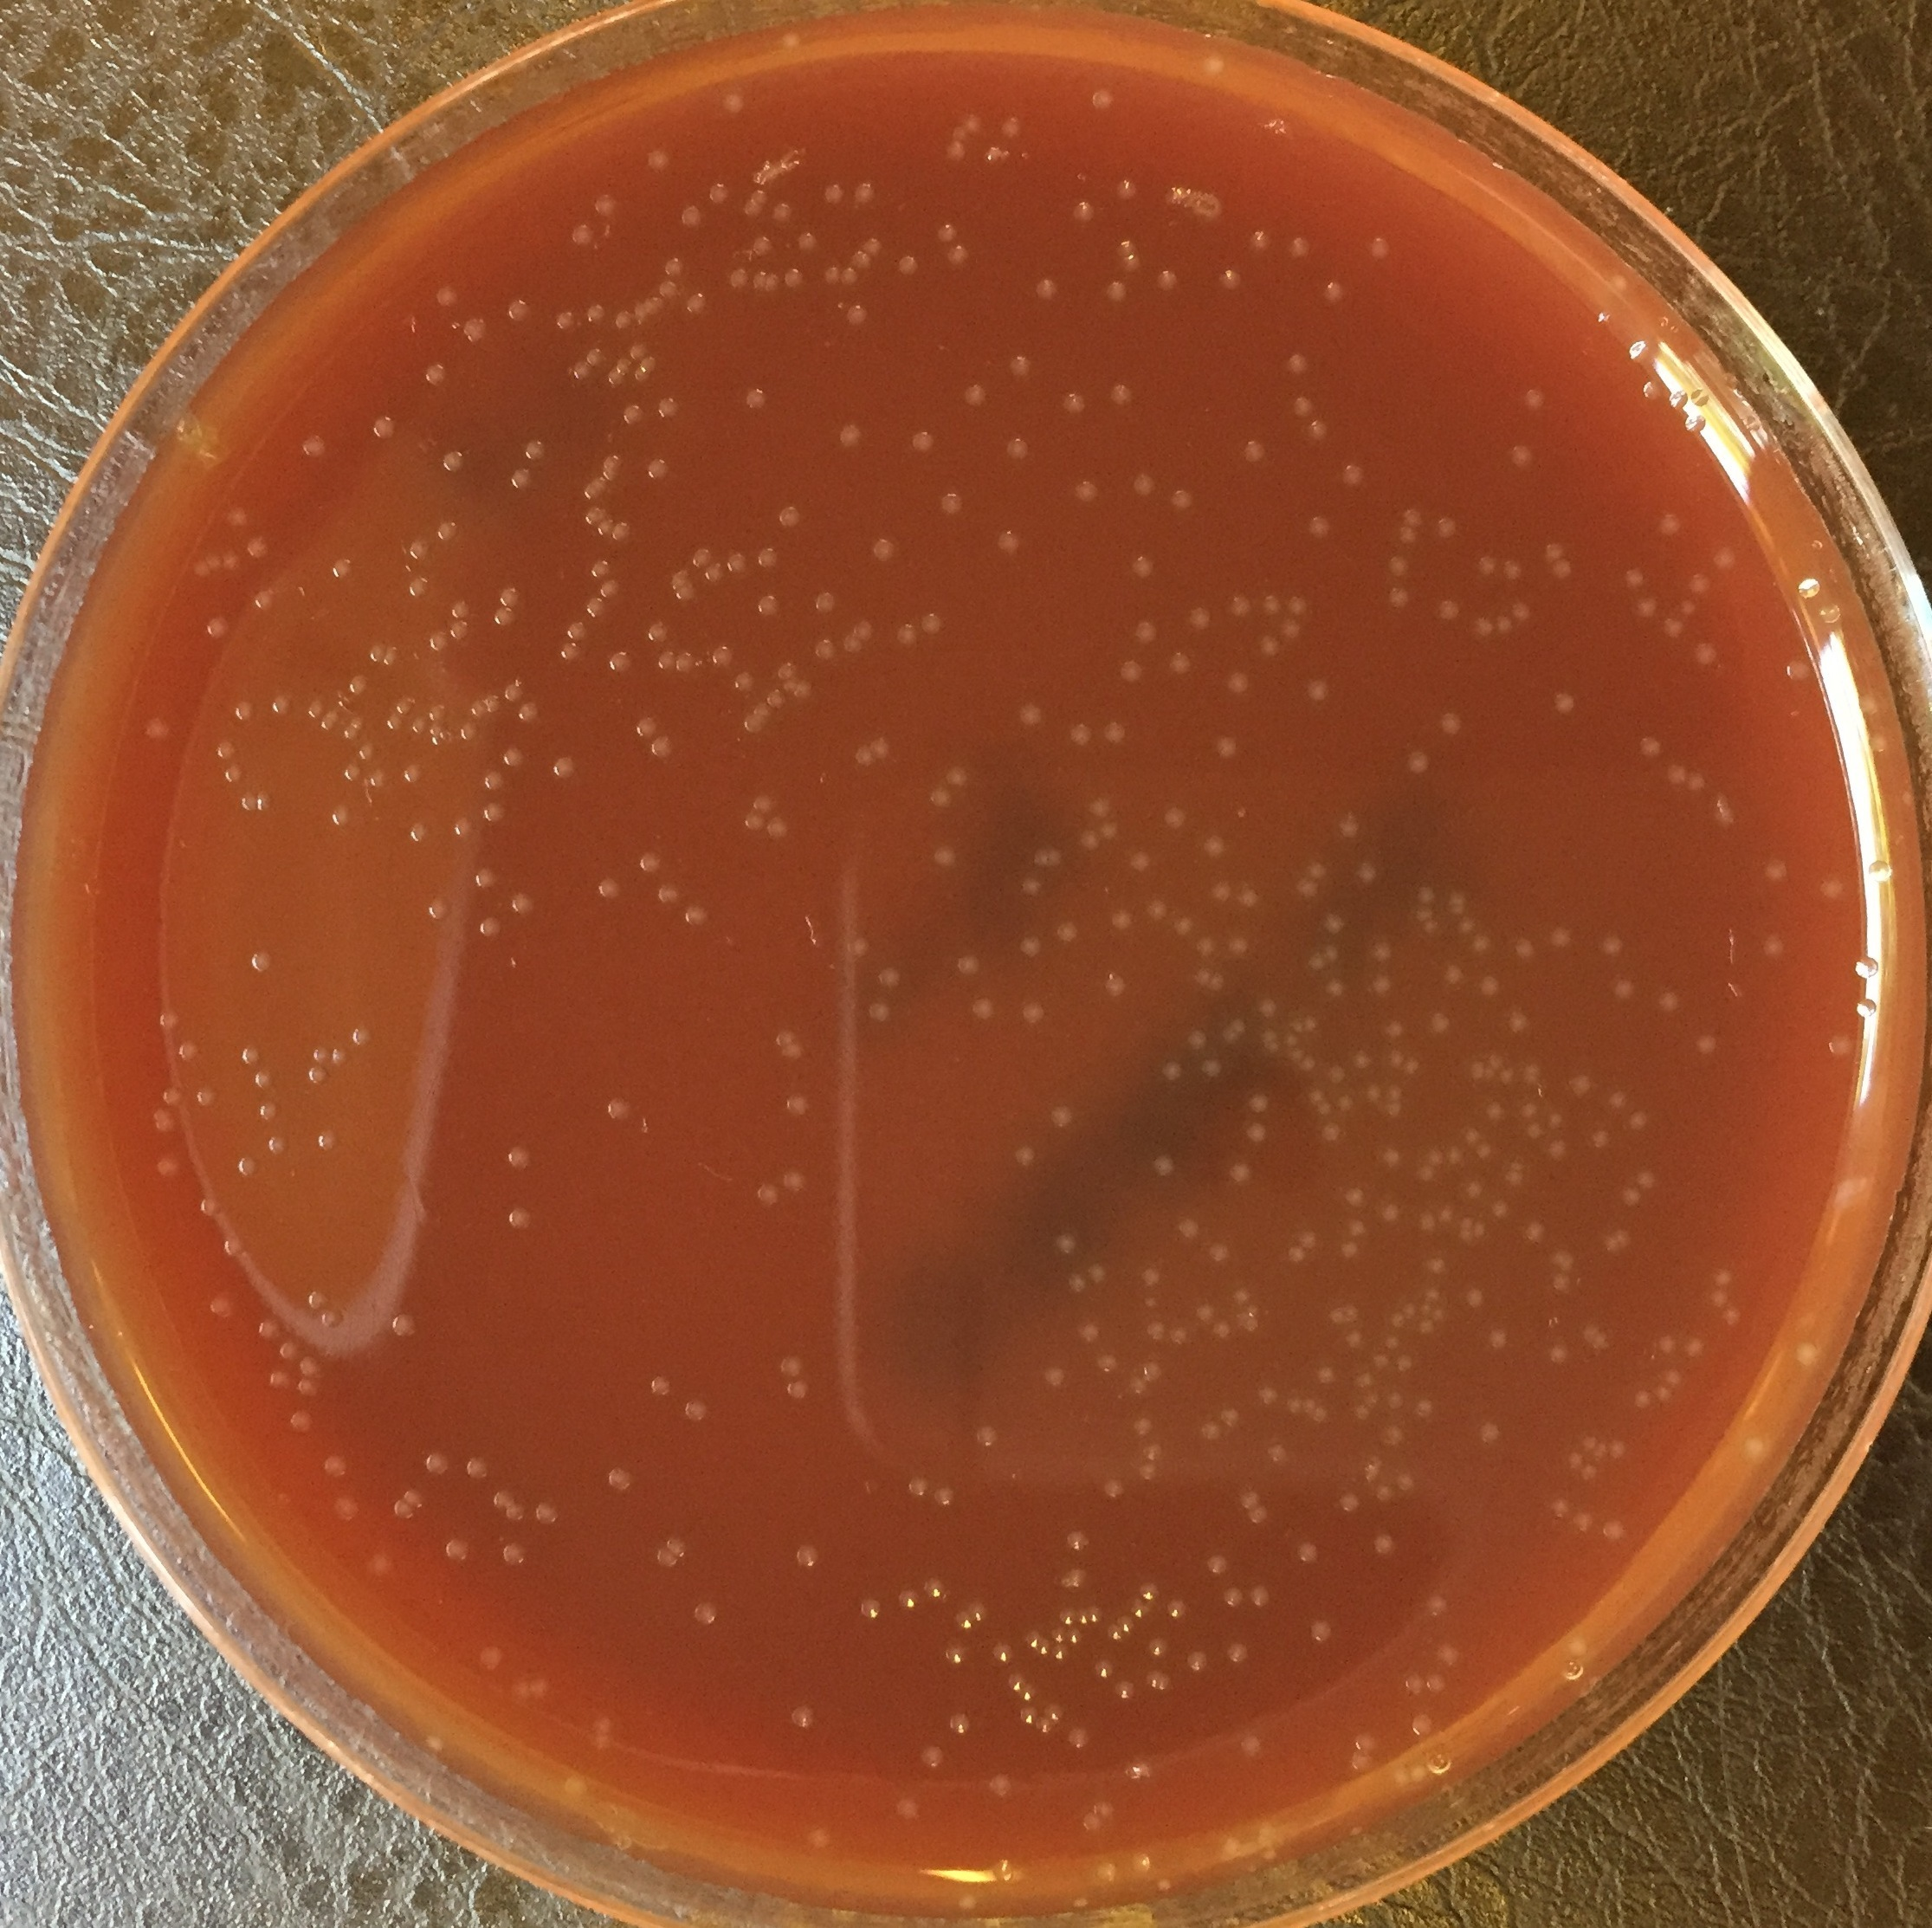sp10: (729, 371, 798, 431), (1503, 357, 1554, 417), (911, 418, 952, 478), (823, 408, 869, 459), (766, 21, 814, 69), (1211, 41, 1256, 92), (1254, 109, 1307, 152), (579, 1716, 629, 1760), (1789, 1333, 1840, 1374), (713, 87, 765, 120), (1190, 184, 1231, 222), (1233, 1305, 1277, 1337), (1706, 787, 1738, 825), (367, 1548, 404, 1580), (441, 1534, 480, 1564), (1162, 175, 1194, 208), (205, 1292, 238, 1324), (1582, 1326, 1612, 1361), (1379, 1421, 1416, 1450), (1678, 408, 1709, 440), (804, 1824, 835, 1856), (1015, 701, 1047, 733), (1849, 955, 1884, 983), (987, 1856, 1017, 1887), (154, 1151, 184, 1183), (1761, 858, 1791, 888), (1501, 1160, 1533, 1188), (498, 1541, 530, 1570), (1056, 1564, 1088, 1593), (1307, 1619, 1339, 1647), (389, 1312, 420, 1340), (992, 528, 1024, 556), (1019, 996, 1051, 1024), (1657, 614, 1688, 643), (1521, 1218, 1552, 1246), (1625, 337, 1653, 367), (1462, 1218, 1491, 1248), (332, 1494, 362, 1522), (510, 888, 539, 918), (604, 1095, 634, 1123), (765, 814, 793, 844), (203, 613, 233, 641), (1166, 648, 1196, 676), (1657, 512, 1685, 542), (1400, 749, 1430, 777), (1611, 976, 1639, 1006), (788, 1704, 819, 1730), (459, 318, 491, 344), (643, 147, 675, 173), (943, 763, 975, 789), (1226, 1160, 1257, 1186), (867, 734, 895, 763), (1600, 1517, 1628, 1545), (1740, 1432, 1768, 1460), (1360, 1462, 1390, 1488), (1219, 1012, 1245, 1042), (560, 1773, 586, 1803), (894, 1797, 924, 1824), (288, 1409, 318, 1435), (779, 1167, 809, 1194), (675, 646, 701, 676), (440, 450, 470, 477), (754, 593, 784, 620), (1130, 470, 1160, 496), (1711, 546, 1741, 572), (1687, 570, 1717, 597), (1782, 659, 1812, 685), (297, 1354, 328, 1379), (782, 1093, 814, 1118), (943, 139, 975, 164), (1224, 934, 1256, 959), (954, 952, 985, 976), (1639, 378, 1662, 411), (422, 1451, 450, 1478), (491, 1487, 519, 1513), (664, 1533, 692, 1559), (692, 1600, 721, 1626), (1065, 1725, 1093, 1751), (682, 1397, 710, 1423), (779, 1354, 807, 1381), (961, 381, 989, 408), (1100, 973, 1128, 999), (1049, 1102, 1075, 1130), (1621, 565, 1649, 591), (1690, 639, 1718, 666), (1635, 733, 1662, 761), (1505, 1006, 1533, 1033), (1264, 1441, 1293, 1467), (1566, 1072, 1593, 1100), (1335, 812, 1362, 840), (463, 1455, 493, 1480), (532, 1501, 562, 1525), (420, 1734, 450, 1759), (1127, 1757, 1157, 1781), (1565, 1633, 1595, 1658), (1407, 1713, 1438, 1737), (316, 1305, 346, 1329), (480, 800, 510, 825), (722, 551, 752, 576), (774, 505, 804, 530), (1240, 440, 1270, 464), (1051, 920, 1081, 945), (1144, 899, 1174, 923), (1150, 1153, 1180, 1178), (1415, 1280, 1446, 1303), (321, 1453, 353, 1476), (984, 1773, 1015, 1796), (1031, 279, 1063, 302), (1649, 990, 1681, 1013), (475, 1642, 502, 1668), (917, 1744, 943, 1771), (477, 915, 503, 941), (143, 715, 170, 742), (648, 1372, 675, 1398), (648, 734, 675, 761), (244, 535, 270, 561), (505, 298, 532, 325), (569, 222, 595, 249), (1367, 235, 1393, 261), (1132, 620, 1158, 646), (1185, 606, 1211, 632), (1224, 669, 1250, 696), (1213, 734, 1240, 761), (1162, 805, 1189, 832), (1436, 597, 1462, 623), (1662, 761, 1688, 787), (1685, 768, 1711, 795), (1427, 1010, 1453, 1036), (1369, 973, 1395, 999), (602, 448, 627, 477), (608, 1465, 636, 1490), (528, 1672, 553, 1700), (1042, 1698, 1067, 1727), (793, 1543, 821, 1568), (1438, 1642, 1466, 1667), (194, 1084, 223, 1109), (595, 876, 623, 900), (394, 690, 419, 719), (752, 1181, 781, 1206), (645, 457, 673, 482), (894, 623, 918, 651), (998, 115, 1026, 139), (1321, 277, 1346, 305), (1167, 489, 1196, 514), (1128, 556, 1157, 581), (927, 786, 955, 810), (1019, 934, 1047, 959), (1815, 602, 1844, 627), (1867, 856, 1895, 881), (1826, 1031, 1854, 1056), (1485, 1326, 1513, 1351), (194, 1195, 224, 1218), (1010, 1144, 1040, 1167), (579, 475, 611, 496), (947, 1711, 973, 1736), (1128, 1850, 1155, 1875), (973, 1425, 1000, 1450), (1219, 1585, 1245, 1610), (1249, 1582, 1273, 1608), (1294, 1541, 1321, 1566), (1425, 1672, 1452, 1697), (256, 1319, 283, 1344), (161, 1082, 187, 1107), (314, 1130, 341, 1155), (330, 556, 355, 583), (224, 505, 251, 530), (300, 434, 327, 459), (373, 415, 399, 440), (422, 362, 449, 387), (655, 397, 682, 422), (673, 579, 699, 604), (941, 489, 966, 516), (592, 192, 618, 217), (706, 180, 733, 205), (751, 233, 775, 260), (894, 252, 920, 277), (844, 302, 871, 327), (945, 244, 971, 268), (1090, 87, 1116, 111), (1068, 200, 1095, 224), (1107, 383, 1134, 408), (1305, 678, 1332, 703), (1226, 591, 1252, 616), (1211, 879, 1236, 906), (1185, 1028, 1211, 1052), (1492, 614, 1519, 639), (1634, 595, 1660, 620), (1439, 708, 1464, 734), (1552, 689, 1577, 715), (1757, 934, 1784, 959), (1853, 996, 1879, 1020), (1694, 1029, 1718, 1056), (1600, 932, 1625, 959), (1441, 960, 1468, 985), (1317, 1119, 1344, 1144), (1612, 1225, 1637, 1252), (1379, 1148, 1406, 1172), (1349, 862, 1376, 886), (1445, 892, 1469, 918), (1667, 385, 1690, 413), (1183, 1651, 1211, 1674), (1125, 1598, 1153, 1621), (249, 950, 277, 973), (454, 720, 482, 743), (1217, 270, 1245, 293), (1003, 436, 1031, 459), (1160, 1058, 1189, 1081), (1549, 923, 1577, 946), (1619, 1185, 1648, 1208), (1321, 911, 1349, 934), (221, 1236, 251, 1257), (450, 816, 480, 837), (1137, 1580, 1162, 1605), (1204, 1554, 1229, 1578), (1372, 1531, 1397, 1555), (1425, 1593, 1450, 1617), (267, 1132, 291, 1156), (655, 881, 680, 906), (233, 697, 258, 722), (330, 803, 355, 828), (551, 754, 576, 779), (743, 809, 768, 833), (509, 466, 533, 491), (646, 621, 671, 646), (812, 590, 837, 614), (683, 291, 708, 316), (851, 182, 876, 207), (1106, 279, 1130, 304), (1287, 235, 1312, 260), (1063, 390, 1088, 415), (1305, 514, 1330, 538), (1120, 659, 1144, 683), (1284, 593, 1309, 618), (1128, 849, 1153, 874), (867, 998, 892, 1022), (971, 994, 996, 1019), (1386, 584, 1411, 609), (1388, 554, 1413, 579), (1476, 971, 1501, 996), (1342, 1326, 1367, 1351), (1053, 1231, 1077, 1255), (1084, 1264, 1109, 1289), (1137, 1264, 1162, 1289), (1337, 1236, 1362, 1261), (1342, 1185, 1367, 1209), (1588, 1125, 1612, 1149), (1015, 1704, 1038, 1730), (932, 1483, 955, 1510), (1226, 1642, 1252, 1665), (235, 1156, 261, 1179), (328, 1045, 355, 1068), (429, 897, 452, 923), (638, 851, 664, 874), (683, 904, 710, 927), (505, 1146, 532, 1169), (731, 669, 758, 692), (406, 576, 433, 599), (406, 538, 433, 561), (871, 538, 897, 561), (795, 230, 821, 252), (781, 265, 807, 288), (1151, 270, 1178, 293), (1337, 463, 1363, 486), (1098, 720, 1125, 743), (1236, 888, 1263, 911), (1402, 507, 1429, 530), (1434, 514, 1460, 537), (1508, 443, 1535, 466), (1815, 879, 1842, 902), (1415, 1209, 1441, 1232), (1711, 1268, 1738, 1291), (1519, 1061, 1545, 1084), (857, 1598, 885, 1619), (256, 1102, 284, 1123), (500, 747, 528, 768), (505, 1208, 533, 1229), (606, 651, 634, 673), (1552, 1248, 1582, 1268), (392, 1499, 417, 1522), (655, 1545, 680, 1568), (1349, 1751, 1374, 1774), (306, 1289, 330, 1312), (175, 1042, 200, 1065), (350, 1024, 374, 1047), (215, 738, 240, 761), (634, 715, 659, 738), (710, 646, 733, 671), (774, 660, 798, 683), (449, 597, 472, 621), (599, 577, 623, 600), (251, 588, 275, 611), (703, 558, 726, 583), (756, 547, 781, 570), (853, 620, 878, 643), (922, 613, 945, 637), (770, 201, 795, 224), (819, 182, 844, 205), (961, 113, 984, 138), (1067, 724, 1091, 747), (1257, 636, 1282, 659), (1279, 614, 1303, 637), (931, 846, 955, 869), (1079, 828, 1104, 851), (1199, 1054, 1222, 1079), (1499, 558, 1524, 581), (1508, 600, 1531, 625), (1512, 938, 1536, 960), (1040, 1363, 1065, 1386), (1374, 1483, 1399, 1506), (1604, 1439, 1628, 1462), (1464, 1285, 1487, 1310), (1681, 1338, 1706, 1361), (1718, 1305, 1743, 1328), (989, 1642, 1015, 1663), (1091, 1656, 1113, 1683), (1047, 1642, 1074, 1663), (786, 1377, 812, 1398), (473, 867, 500, 888), (403, 761, 429, 782), (853, 742, 874, 768), (689, 547, 715, 569), (848, 249, 874, 270), (1284, 355, 1310, 376), (1307, 418, 1333, 440), (1542, 542, 1568, 563), (1485, 1197, 1512, 1218), (1607, 1084, 1628, 1111), (1369, 939, 1395, 960), (1353, 1732, 1381, 1751), (1469, 934, 1498, 953), (1113, 1677, 1136, 1700), (1061, 1624, 1084, 1647), (904, 1472, 927, 1495), (449, 620, 472, 643), (585, 595, 608, 618), (434, 286, 457, 309), (657, 277, 680, 300), (1249, 230, 1272, 252), (1291, 394, 1314, 417), (1088, 798, 1111, 821), (1257, 1384, 1280, 1407), (1210, 1239, 1233, 1262), (1245, 1119, 1268, 1142), (1423, 1254, 1446, 1277), (1249, 1089, 1272, 1112), (401, 1488, 426, 1510), (505, 1501, 530, 1522), (943, 1642, 968, 1663), (1067, 1529, 1091, 1550), (1113, 1614, 1137, 1635), (1402, 1672, 1423, 1697), (307, 1065, 332, 1086), (155, 1008, 180, 1029), (765, 689, 789, 710), (493, 606, 517, 627), (558, 643, 583, 664), (191, 558, 215, 579), (615, 309, 636, 334), (664, 254, 685, 279), (1072, 480, 1097, 501), (1257, 593, 1282, 614), (1169, 915, 1194, 936), (1192, 932, 1213, 957), (1476, 554, 1498, 579), (1471, 616, 1496, 637), (1098, 1476, 1123, 1497), (1217, 1405, 1241, 1427), (1316, 1365, 1340, 1386), (1413, 1398, 1438, 1420), (1379, 1201, 1404, 1222), (1634, 1169, 1658, 1190), (1385, 1019, 1409, 1040), (1347, 1047, 1372, 1068), (275, 1342, 302, 1361), (265, 1372, 291, 1391), (254, 791, 274, 817), (738, 715, 765, 734), (1007, 357, 1033, 376), (1075, 1324, 1102, 1344), (1079, 1811, 1102, 1833), (1091, 1797, 1114, 1819), (1097, 1861, 1118, 1884), (922, 1577, 945, 1598), (966, 1601, 989, 1623), (1146, 1637, 1169, 1658), (1166, 1598, 1189, 1619), (1238, 1734, 1261, 1755), (253, 1066, 274, 1089), (311, 1043, 332, 1066), (223, 764, 245, 786), (348, 673, 369, 696), (484, 770, 507, 791), (516, 701, 539, 722), (436, 521, 459, 542), (427, 632, 450, 653), (565, 620, 588, 641), (526, 438, 547, 461), (583, 505, 604, 528), (570, 360, 593, 381), (728, 267, 751, 288), (860, 235, 881, 258), (1113, 178, 1136, 200), (1044, 844, 1067, 865), (846, 936, 869, 957), (1395, 524, 1418, 546), (1547, 558, 1570, 579), (1141, 1359, 1162, 1382), (1196, 1301, 1219, 1322), (1476, 1423, 1499, 1444), (1545, 1497, 1568, 1518), (1065, 1273, 1086, 1296), (1176, 1216, 1199, 1238), (1296, 1229, 1317, 1252), (1284, 1241, 1305, 1264), (1462, 1178, 1485, 1199), (1482, 1102, 1505, 1123), (1545, 1139, 1568, 1160), (1626, 1111, 1649, 1132), (1302, 1013, 1324, 1035), (1416, 885, 1438, 908), (553, 311, 577, 330), (1097, 821, 1121, 840), (1201, 833, 1226, 853), (1453, 915, 1478, 934), (1093, 1352, 1118, 1372), (1545, 1345, 1570, 1365), (1399, 1054, 1423, 1073), (657, 650, 678, 671), (754, 699, 775, 720), (793, 676, 814, 697), (498, 588, 519, 609), (814, 637, 835, 659), (585, 302, 606, 323), (682, 205, 703, 226), (1121, 254, 1143, 275), (1337, 1492, 1358, 1513), (1227, 1285, 1249, 1307), (1346, 1216, 1367, 1238), (1551, 1271, 1572, 1292), (1496, 1065, 1517, 1086), (1305, 952, 1326, 973), (1033, 1714, 1056, 1734), (897, 1589, 920, 1608), (952, 1612, 975, 1631), (1056, 1607, 1079, 1626), (297, 1375, 320, 1395), (238, 1045, 261, 1065), (270, 694, 293, 713), (367, 766, 387, 789), (406, 717, 429, 736), (502, 683, 525, 703), (588, 558, 611, 577), (622, 404, 645, 424), (1021, 876, 1044, 895), (774, 1028, 796, 1047), (1167, 1324, 1190, 1344), (1245, 1504, 1268, 1524), (1385, 1390, 1407, 1409), (1572, 1513, 1591, 1536), (1662, 1370, 1685, 1390), (1293, 874, 1316, 893), (408, 825, 433, 842), (874, 968, 899, 985), (1657, 1335, 1674, 1359), (512, 1679, 532, 1700), (1007, 1670, 1026, 1691), (1047, 1624, 1068, 1644), (1084, 1605, 1106, 1624), (383, 713, 404, 733), (482, 694, 503, 713), (752, 793, 774, 812), (366, 643, 387, 662), (383, 644, 403, 666), (205, 551, 224, 572), (611, 521, 630, 542), (595, 517, 616, 537), (669, 567, 689, 588), (839, 265, 858, 286), (936, 222, 955, 244), (1109, 909, 1130, 929), (1144, 1319, 1166, 1338), (1199, 1421, 1220, 1441), (1284, 1391, 1303, 1412), (1240, 1490, 1261, 1510), (1565, 1450, 1584, 1471), (1632, 1390, 1651, 1411), (1333, 1093, 1355, 1112), (1326, 980, 1347, 999), (1321, 945, 1340, 966), (1155, 1668, 1173, 1691), (842, 636, 865, 653), (1651, 1386, 1674, 1404), (1106, 1623, 1125, 1642), (306, 697, 325, 717), (221, 551, 240, 570), (629, 343, 648, 362), (825, 265, 844, 284), (1125, 1375, 1144, 1395), (1395, 1472, 1415, 1492), (1709, 1287, 1729, 1307), (1326, 1065, 1346, 1084), (240, 791, 258, 812), (341, 764, 362, 782), (470, 699, 491, 717), (781, 673, 798, 694), (604, 369, 625, 387), (1114, 238, 1136, 256), (1139, 1442, 1160, 1460), (1136, 1464, 1157, 1481), (1602, 1234, 1619, 1255), (1282, 1031, 1303, 1049), (1307, 860, 1328, 877), (782, 1043, 805, 1059), (1353, 1372, 1376, 1388), (1416, 1165, 1439, 1181), (1296, 1054, 1319, 1070), (1019, 1684, 1038, 1702), (1023, 1630, 1040, 1649), (1143, 1668, 1160, 1688), (1072, 1607, 1090, 1626), (427, 703, 447, 720), (585, 348, 604, 365), (630, 365, 650, 383), (742, 198, 759, 217), (984, 145, 1001, 164), (1676, 597, 1695, 614), (1130, 1416, 1150, 1434), (1328, 1305, 1346, 1324), (1393, 1354, 1413, 1372), (1349, 1404, 1369, 1421), (1385, 1049, 1404, 1066), (1363, 1082, 1381, 1102), (1545, 1111, 1565, 1128), (1468, 1061, 1485, 1081), (1192, 966, 1210, 985), (751, 270, 766, 291), (1362, 1390, 1383, 1405), (1388, 1308, 1404, 1329), (1519, 1102, 1540, 1118), (1257, 1028, 1279, 1043), (1460, 1128, 1483, 1142), (751, 185, 768, 203), (1031, 847, 1049, 865), (1213, 1317, 1231, 1335), (1372, 1352, 1390, 1370), (1438, 1206, 1455, 1224), (1257, 998, 1275, 1015), (358, 742, 374, 761), (1422, 918, 1441, 934), (1302, 1393, 1316, 1414), (1141, 1294, 1162, 1308), (1037, 1637, 1053, 1654), (316, 717, 334, 733), (350, 715, 366, 733), (639, 355, 657, 371), (1385, 1335, 1402, 1351), (1418, 1319, 1436, 1335), (1383, 1084, 1399, 1102), (1526, 1121, 1542, 1139), (1475, 1141, 1492, 1156), (1446, 1144, 1462, 1162), (1413, 904, 1429, 922), (152, 1109, 171, 1123), (1385, 1102, 1404, 1116), (438, 727, 454, 743), (1399, 1303, 1415, 1319), (1430, 1308, 1446, 1324), (341, 727, 358, 742), (1312, 1405, 1330, 1420), (325, 706, 339, 722), (427, 720, 443, 734), (1577, 1435, 1593, 1450), (1307, 1088, 1321, 1103), (1210, 973, 1224, 989), (1316, 1102, 1333, 1114), (1289, 1019, 1303, 1033), (429, 734, 443, 747), (1286, 1051, 1305, 1059)
